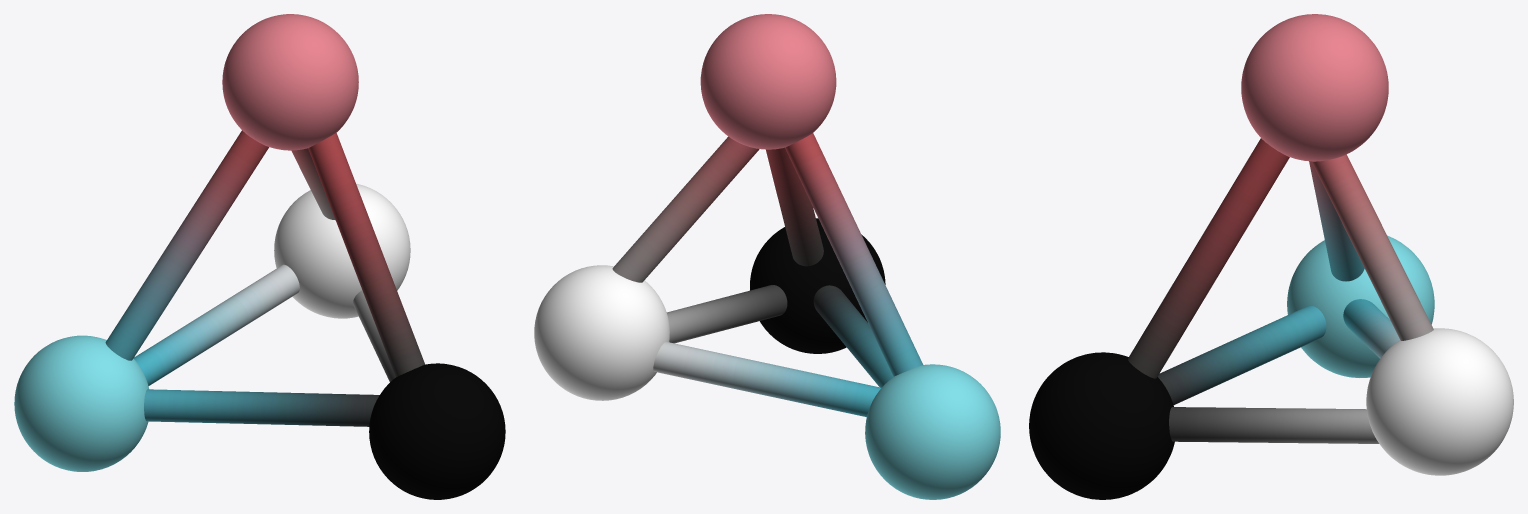
3 renders of one model, left to right at view 1: azimuth 30°, elevation 25°; view 2: azimuth 150°, elevation 25°; view 3: azimuth 270°, elevation 25°, orthographic. The views are drawn at different scales.
Parts seen in each view (by area): view 1: 008_Sphere_1, 009_Sphere, 007_Sphere_2, 006_Sphere_3, 002_Cylinder_2, 000_Cylinder_4, 005_Cylinder, 003_Cylinder_5, 004_Cylinder_3, 001_Cylinder_1; view 2: 007_Sphere_2, 009_Sphere, 006_Sphere_3, 002_Cylinder_2, 008_Sphere_1, 003_Cylinder_5, 001_Cylinder_1, 004_Cylinder_3, 000_Cylinder_4, 005_Cylinder; view 3: 009_Sphere, 006_Sphere_3, 008_Sphere_1, 000_Cylinder_4, 007_Sphere_2, 004_Cylinder_3, 001_Cylinder_1, 005_Cylinder, 002_Cylinder_2, 003_Cylinder_5.
Boxes of the visible parts, x1=… form: 008_Sphere_1: x1=369, y1=363, x2=505, y2=499; 009_Sphere: x1=222, y1=14, x2=358, y2=150; 007_Sphere_2: x1=14, y1=335, x2=148, y2=471; 006_Sphere_3: x1=274, y1=183, x2=410, y2=318; 002_Cylinder_2: x1=105, y1=130, x2=268, y2=360; 000_Cylinder_4: x1=308, y1=133, x2=424, y2=377; 005_Cylinder: x1=144, y1=389, x2=379, y2=426; 003_Cylinder_5: x1=133, y1=264, x2=299, y2=385; 004_Cylinder_3: x1=353, y1=290, x2=395, y2=381; 001_Cylinder_1: x1=291, y1=148, x2=335, y2=220; 007_Sphere_2: x1=865, y1=364, x2=1000, y2=499; 009_Sphere: x1=700, y1=14, x2=836, y2=149; 006_Sphere_3: x1=534, y1=265, x2=669, y2=400; 002_Cylinder_2: x1=785, y1=133, x2=923, y2=376; 008_Sphere_1: x1=750, y1=218, x2=885, y2=353; 003_Cylinder_5: x1=653, y1=341, x2=881, y2=417; 001_Cylinder_1: x1=612, y1=136, x2=759, y2=282; 004_Cylinder_3: x1=666, y1=285, x2=787, y2=343; 000_Cylinder_4: x1=765, y1=147, x2=823, y2=266; 005_Cylinder: x1=813, y1=285, x2=893, y2=387; 009_Sphere: x1=1241, y1=14, x2=1388, y2=161; 006_Sphere_3: x1=1366, y1=328, x2=1513, y2=475; 008_Sphere_1: x1=1029, y1=352, x2=1174, y2=499; 000_Cylinder_4: x1=1128, y1=138, x2=1289, y2=378; 007_Sphere_2: x1=1287, y1=235, x2=1434, y2=377; 004_Cylinder_3: x1=1169, y1=407, x2=1379, y2=443; 001_Cylinder_1: x1=1311, y1=154, x2=1433, y2=340; 005_Cylinder: x1=1157, y1=305, x2=1326, y2=404; 002_Cylinder_2: x1=1309, y1=161, x2=1364, y2=281; 003_Cylinder_5: x1=1343, y1=299, x2=1399, y2=358.
Size of the model in its own units: 370 by 354 by 347.
10 materials, 6 textured.
